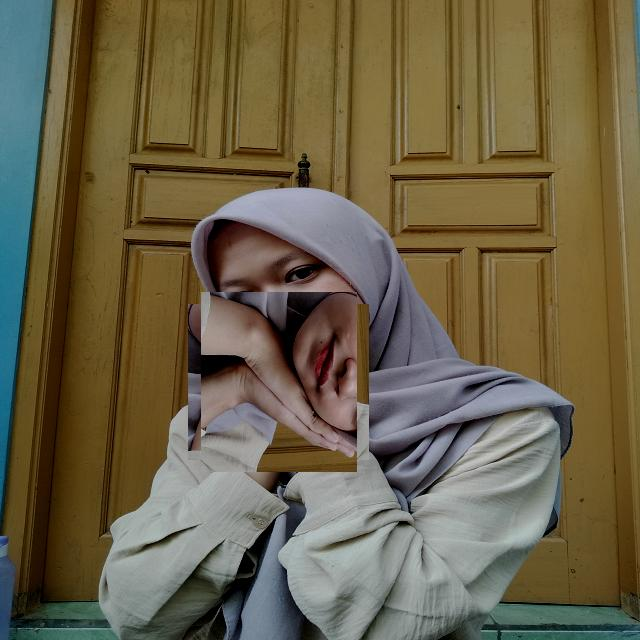tidur: (194, 298, 363, 466)
